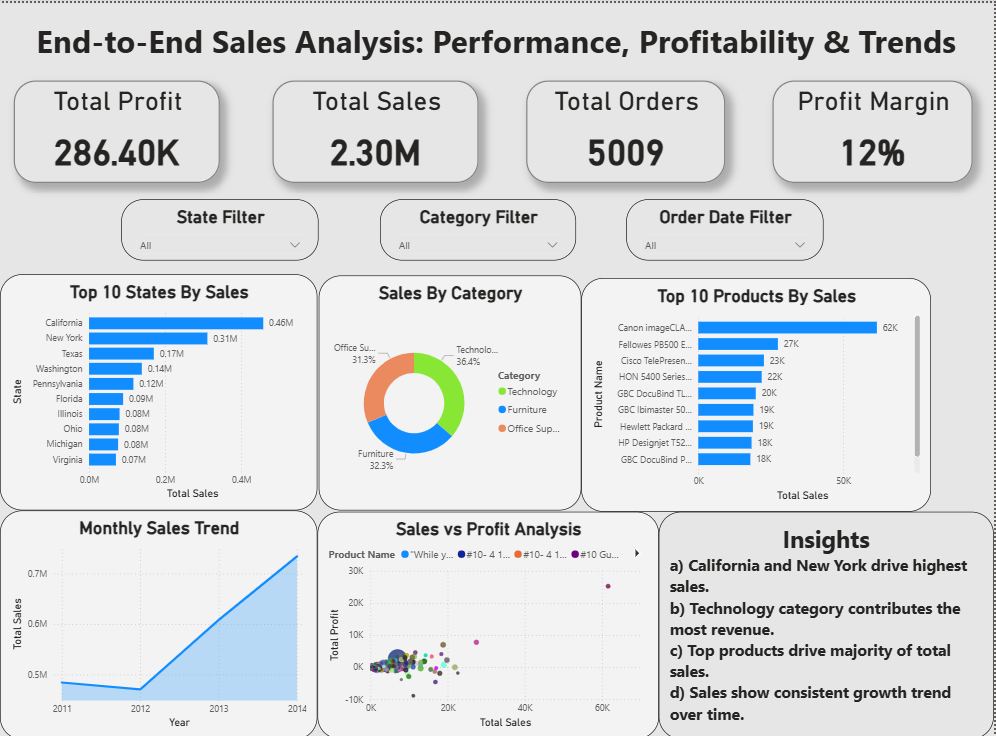

This screenshot's page, from the dashboard's own definition file:
{"tool":"powerbi","page":{"name":"Page 1","canvas":[1350,1000],"ordinal":0},"visuals":[{"type":"card","title":"Total Sales","fields":{"Values":["Orders.Total Sales"]},"box":[370.2,105.3,280.2,139.3],"z":0},{"type":"card","title":"Total Profit","fields":{"Values":["Orders.Total Profit"]},"box":[18.7,105.3,280.2,139.3],"z":1000},{"type":"card","title":"Total Orders","fields":{"Values":["Orders.Total Orders"]},"box":[715,105.3,270,139.3],"z":2000},{"type":"card","title":"Profit Margin","fields":{"Values":["Orders.Profit Margin"]},"box":[1049.6,105.3,271.7,139.3],"z":3000},{"type":"clusteredBarChart","title":"Top 10 States By Sales","fields":{"Category":["Orders.State"],"Y":["Orders.Total Sales"]},"box":[0,368.5,431.4,321],"z":3001},{"type":"lineChart","title":"Monthly Sales Trend","fields":{"Category":["Orders.Order Date.Variation.Date Hierarchy.Year","Orders.Order Date.Variation.Date Hierarchy.Quarter","Orders.Order Date.Variation.Date Hierarchy.Month","Orders.Order Date.Variation.Date Hierarchy.Day"],"Y":["Orders.Total Sales"]},"box":[0,689.5,431.4,310.8],"z":3002},{"type":"donutChart","title":"Sales By Category","fields":{"Category":["Orders.Category"],"Y":["Orders.Total Sales"]},"box":[433.1,370.2,356.7,319.3],"z":3003},{"type":"clusteredBarChart","title":"Top 10 Products By Sales","fields":{"Category":["Orders.Product Name"],"Y":["Orders.Total Sales"]},"box":[789.7,373.6,475.5,317.6],"z":3004},{"type":"scatterChart","title":"Sales vs Profit Analysis","fields":{"X":["Orders.Total Sales"],"Y":["Orders.Total Profit"],"Size":["Sum(Orders.Quantity)"],"Series":["Orders.Product Name"]},"box":[431.4,691.2,463.7,309.1],"z":3005},{"type":"slicer","title":"State Filter","fields":{"Values":["Orders.State"]},"box":[164.7,266.6,268.3,83.2],"z":3006},{"type":"slicer","title":"Category Filter","fields":{"Values":["Orders.Category"]},"box":[516.3,266.6,266.6,83.2],"z":3007},{"type":"slicer","title":"Order Date Filter","fields":{"Values":["Orders.Order Date"]},"box":[850.9,266.6,268.3,83.2],"z":3008},{"type":"textbox","box":[895,691.2,455.2,309.1],"z":3009},{"type":"textbox","box":[34,17,1280.6,88.3],"z":3010}]}

Visuals, with their boxes in screenshot pixels (x1, y1, x2, y2), scaled from the page's 1350x1000 canvas onto the 996x736 screenshot:
"Total Sales" card: BBox(273, 78, 480, 180)
"Total Profit" card: BBox(14, 78, 221, 180)
"Total Orders" card: BBox(528, 78, 727, 180)
"Profit Margin" card: BBox(774, 78, 975, 180)
"Top 10 States By Sales" clusteredBarChart: BBox(0, 271, 318, 507)
"Monthly Sales Trend" lineChart: BBox(0, 507, 318, 735)
"Sales By Category" donutChart: BBox(320, 272, 583, 507)
"Top 10 Products By Sales" clusteredBarChart: BBox(583, 275, 933, 509)
"Sales vs Profit Analysis" scatterChart: BBox(318, 509, 660, 735)
"State Filter" slicer: BBox(122, 196, 319, 257)
"Category Filter" slicer: BBox(381, 196, 578, 257)
"Order Date Filter" slicer: BBox(628, 196, 826, 257)
textbox: BBox(660, 509, 995, 735)
textbox: BBox(25, 13, 970, 78)
